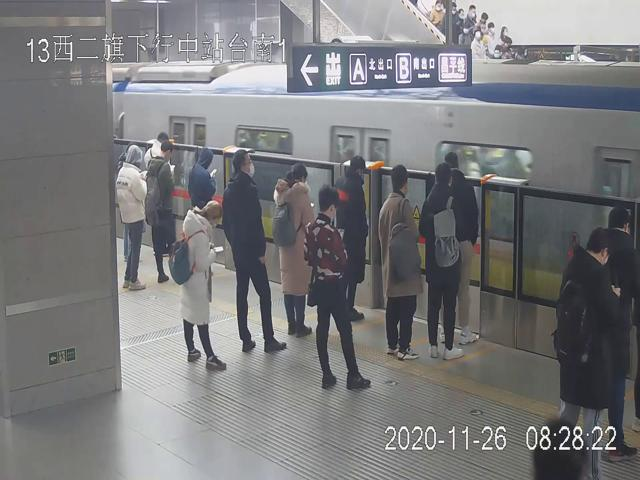person: (553, 228, 621, 480), (304, 184, 370, 391), (227, 149, 286, 355), (378, 166, 421, 359), (422, 166, 464, 360), (181, 200, 227, 368), (275, 160, 314, 340), (336, 156, 368, 320), (145, 142, 176, 284), (116, 145, 146, 291)
